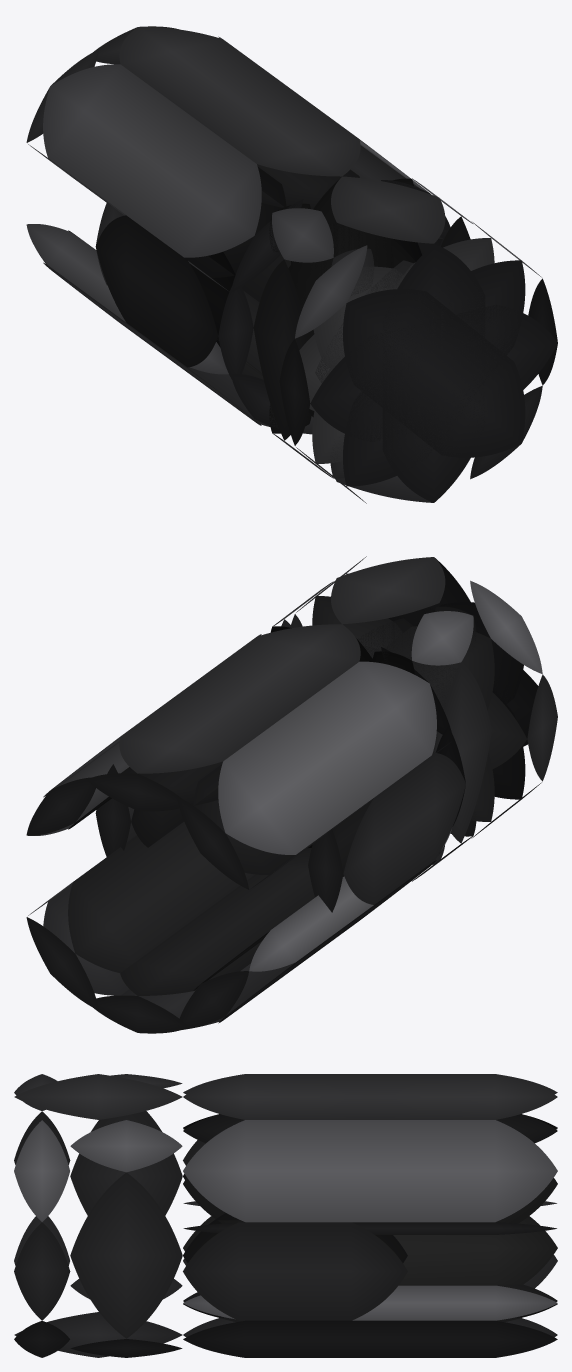
Rendered from udp_9_muzzle_default.fbx.
3 views of the same model, one above another, from view 1: azimuth 30°, elevation 25°; view 2: azimuth 150°, elevation 25°; view 3: azimuth 270°, elevation 25° (orthographic). The views are drawn at different scales.
Parts seen in each view (by area): view 1: octagon_2, octagon_8, octagon_3, octagon_9, octagon_5, octagon_11, octagon_10, octagon_12, octagon_4, octagon_14, octagon_1, octagon_6 (+2 smaller); view 2: octagon_2, octagon_3, octagon, octagon_1, octagon_5, octagon_4, octagon_8, octagon_9, octagon_11, octagon_12, octagon_10, octagon_6 (+2 smaller); view 3: octagon_6, octagon_7, octagon, octagon_3, octagon_12, octagon_4, octagon_9, octagon_10, octagon_11, octagon_13, octagon_8, octagon_15 (+3 smaller).
Part boxes in pixels (box(x1,y1,x2,y2)): octagon_2: box(26, 49, 303, 292); octagon_8: box(295, 245, 542, 479); octagon_3: box(87, 26, 360, 209); octagon_9: box(291, 176, 485, 502); octagon_5: box(95, 202, 253, 379); octagon_11: box(279, 278, 557, 445); octagon_10: box(296, 221, 541, 503); octagon_12: box(253, 216, 470, 440); octagon_4: box(26, 224, 278, 428); octagon_14: box(269, 203, 374, 295); octagon_1: box(188, 291, 313, 434); octagon_6: box(218, 36, 450, 238); octagon_2: box(177, 647, 451, 889); octagon_3: box(87, 624, 360, 811); octagon: box(26, 822, 254, 1010); octagon_1: box(91, 848, 314, 1033); octagon_5: box(308, 726, 465, 912); octagon_4: box(178, 829, 451, 1029); octagon_8: box(372, 580, 542, 754); octagon_9: box(311, 557, 484, 864); octagon_11: box(291, 614, 557, 781); octagon_12: box(281, 618, 491, 843); octagon_10: box(296, 556, 541, 838); octagon_6: box(26, 634, 261, 835); octagon_6: box(183, 1120, 557, 1234); octagon_7: box(183, 1213, 407, 1320); octagon: box(183, 1285, 557, 1357); octagon_3: box(183, 1074, 557, 1143); octagon_12: box(70, 1111, 182, 1338); octagon_4: box(183, 1201, 557, 1288); octagon_9: box(14, 1074, 182, 1357); octagon_10: box(14, 1120, 69, 1265); octagon_11: box(14, 1111, 70, 1320); octagon_13: box(70, 1120, 182, 1172); octagon_8: box(14, 1074, 69, 1357); octagon_15: box(70, 1339, 182, 1357).
Size of the model in its own units: 5.47 by 5.47 by 11.33.
1 material, 1 textured.
